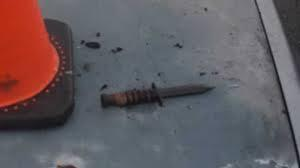Knife: (101, 83, 216, 108)
